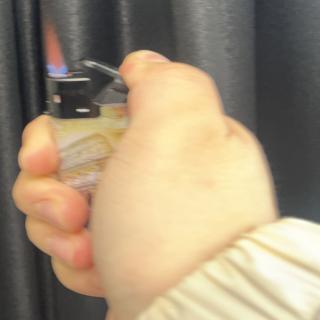fire: (37, 14, 70, 76)
